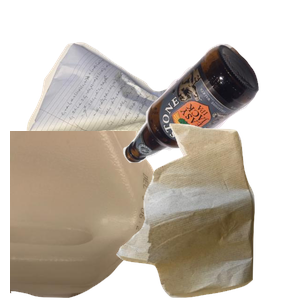glass: (120, 41, 300, 196)
paper: (23, 40, 223, 180)
plastic: (10, 131, 196, 300)
trash: (114, 121, 300, 300)
